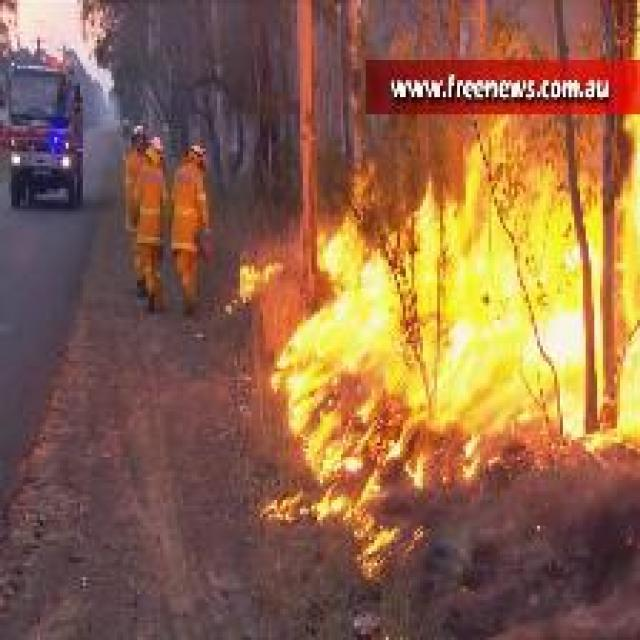Fire: (235, 116, 640, 584)
